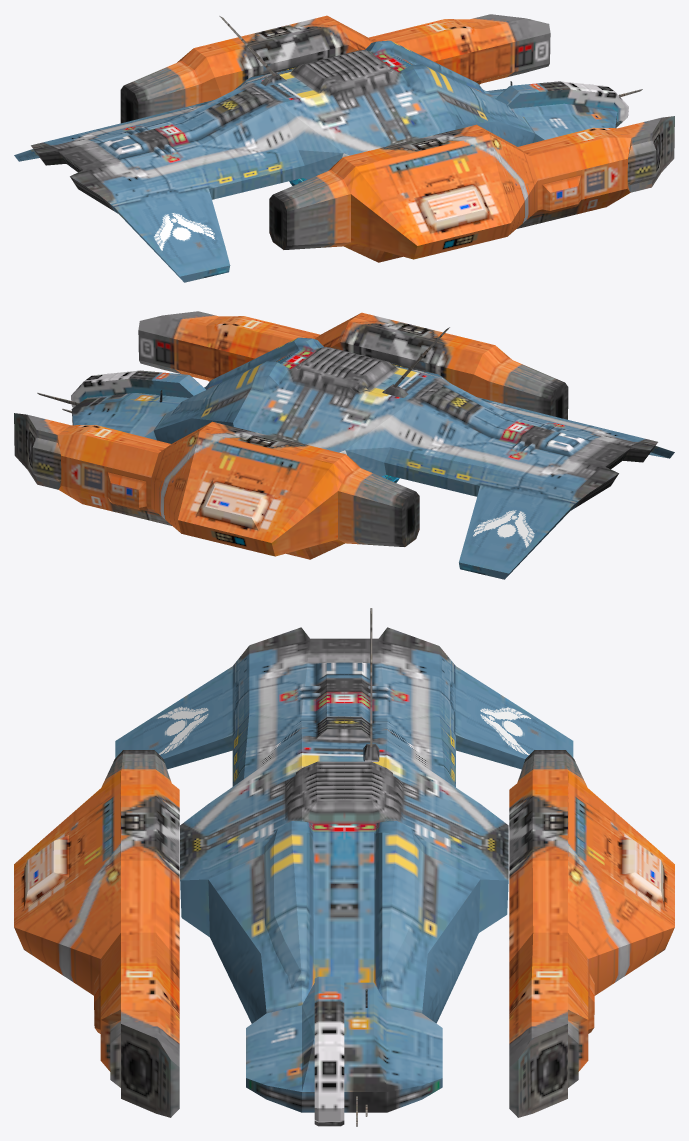
File: Fleet_SB-1_Lancer.FBX
3 renders of one model, top to bottom at view 1: azimuth 30°, elevation 25°; view 2: azimuth 150°, elevation 25°; view 3: azimuth 270°, elevation 25°, orthographic. The views are drawn at different scales.
Visible parts, largest first — view 1: Attack Bomber; view 2: Attack Bomber; view 3: Attack Bomber.
Boxes of the visible parts, x1=… form: Attack Bomber: x1=14, y1=14, x2=674, y2=282; Attack Bomber: x1=14, y1=311, x2=674, y2=579; Attack Bomber: x1=14, y1=608, x2=674, y2=1126.
Size of the model in its own units: 24.16 by 8.36 by 16.89.
Materials: 14 (14 with a texture image).
